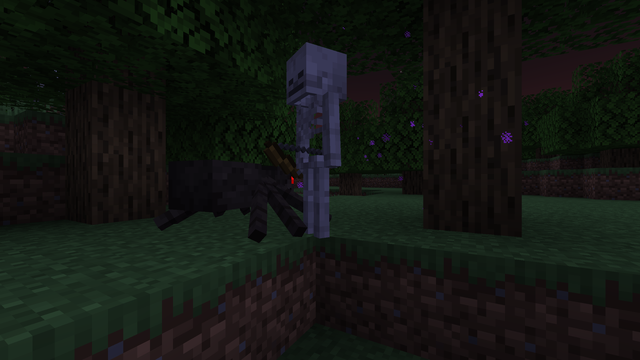araignees: (167, 150, 274, 244)
squelettes: (277, 39, 349, 243)
